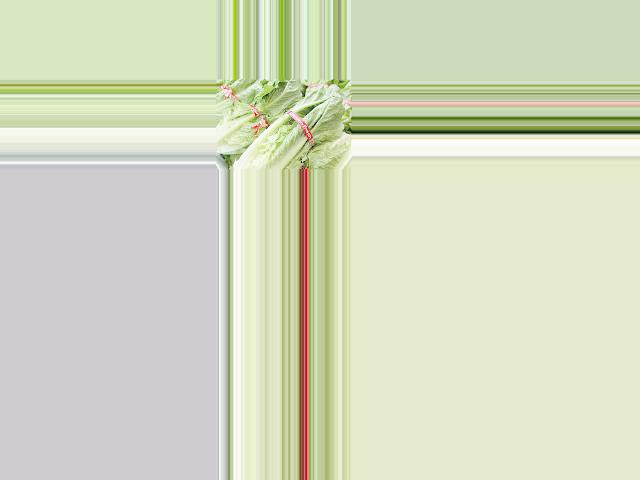lettuce: (234, 83, 345, 170)
